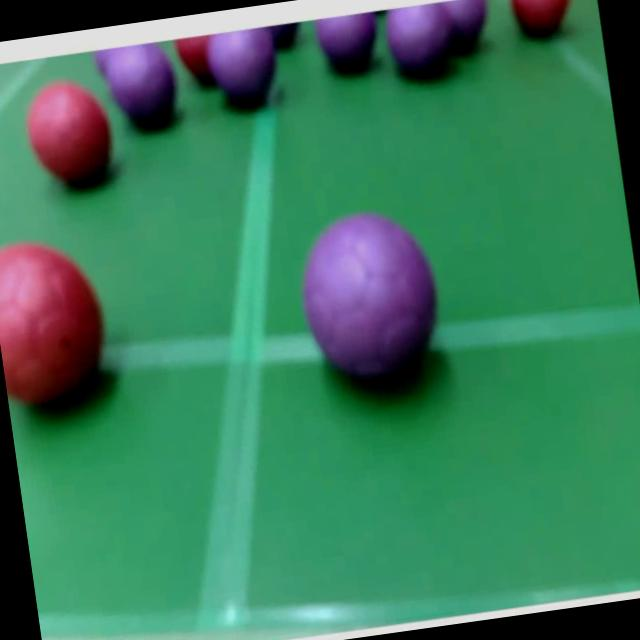purple_ball: (302, 210, 446, 394), (106, 41, 186, 136), (384, 1, 462, 88), (210, 27, 282, 111), (316, 15, 384, 80), (440, 0, 497, 56)
red_ball: (0, 233, 115, 426), (24, 79, 121, 198), (508, 0, 579, 40), (175, 35, 210, 98)
